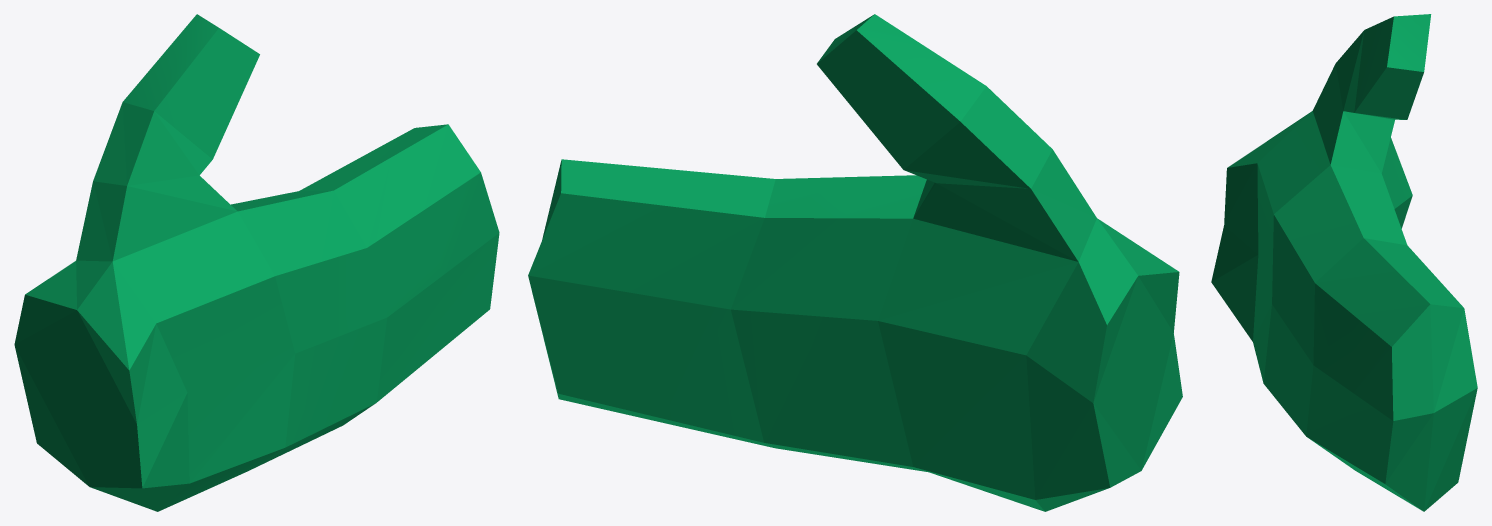
Rendered from bea_right_hand.obj.
The picture shows the model from 3 angles, left to right: view 1: azimuth 30°, elevation 25°; view 2: azimuth 150°, elevation 25°; view 3: azimuth 270°, elevation 25°; orthographic projection. The views are drawn at different scales.
Parts seen in each view (by area): view 1: RightHand.001_Hand.002; view 2: RightHand.001_Hand.002; view 3: RightHand.001_Hand.002.
Part boxes in pixels (x1=…): RightHand.001_Hand.002: x1=14, y1=14, x2=499, y2=511; RightHand.001_Hand.002: x1=528, y1=14, x2=1182, y2=511; RightHand.001_Hand.002: x1=1211, y1=14, x2=1477, y2=511.
Bounding box in the file's own units: 0.2299 × 0.1982 × 0.1128.
